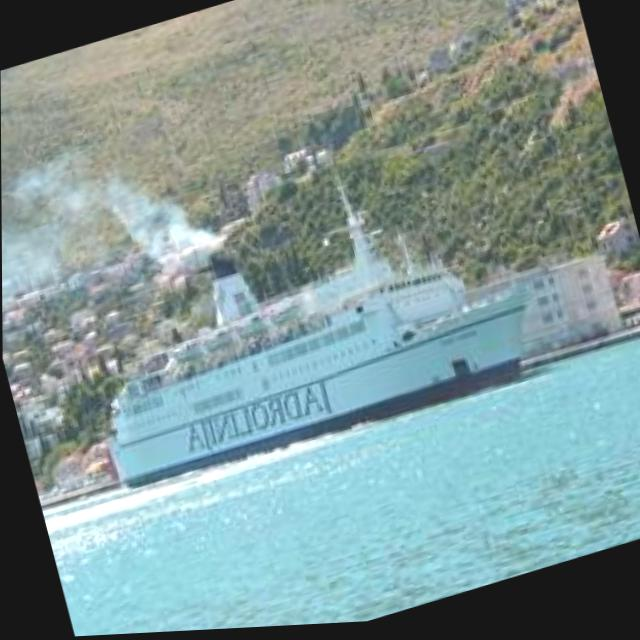ship2: (109, 208, 528, 492)
